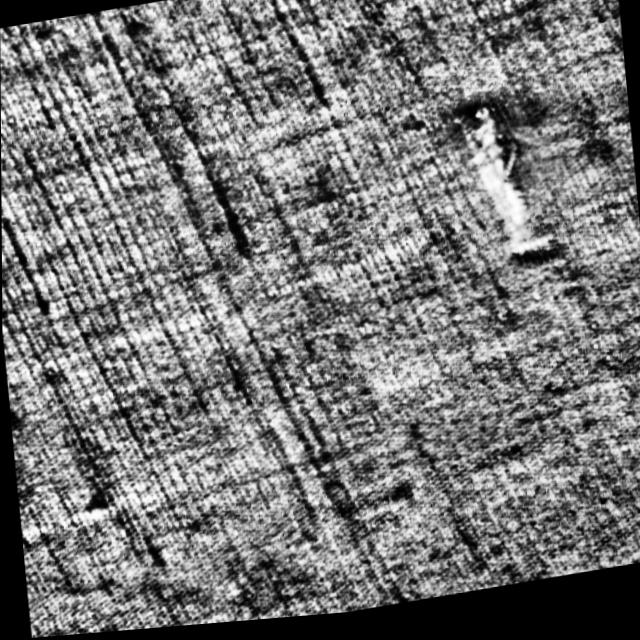Hole: (426, 88, 587, 281)
